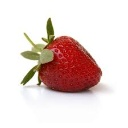strawberry: (21, 27, 102, 92)
